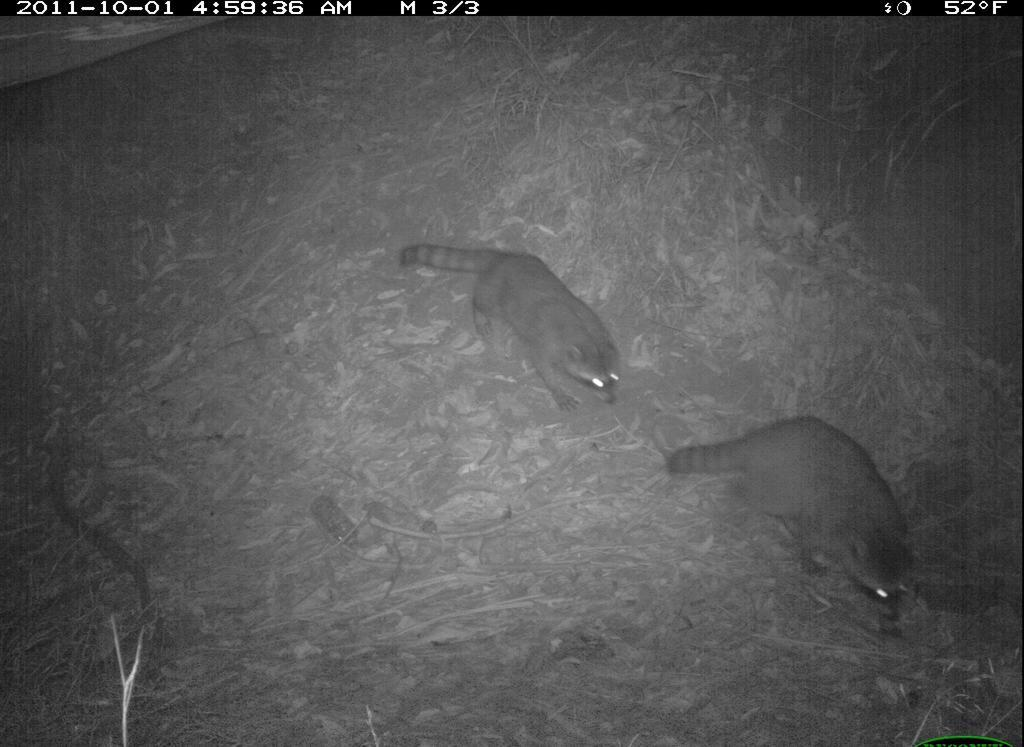raccoon: (666, 411, 920, 625), (395, 236, 632, 417)
